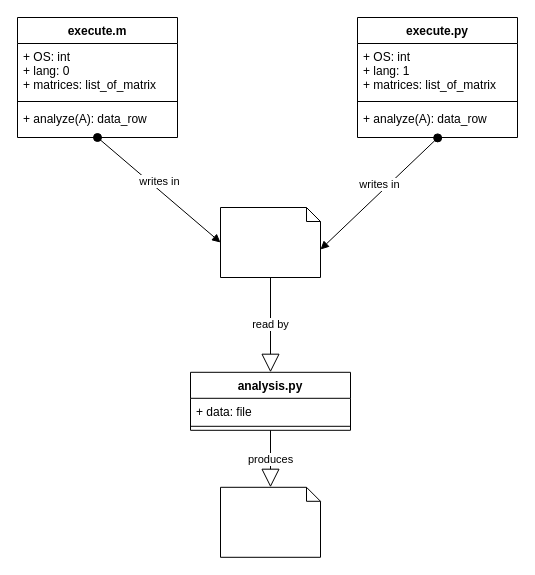
Some shapes in this 535 by 575 pixel diagram are drawn without their labels. The shapes that lost their labels are listed below. From the top down, each one's centre as x and y in pixels, then its label:
point 270,242: data.csv
point 270,521: Analysis output
